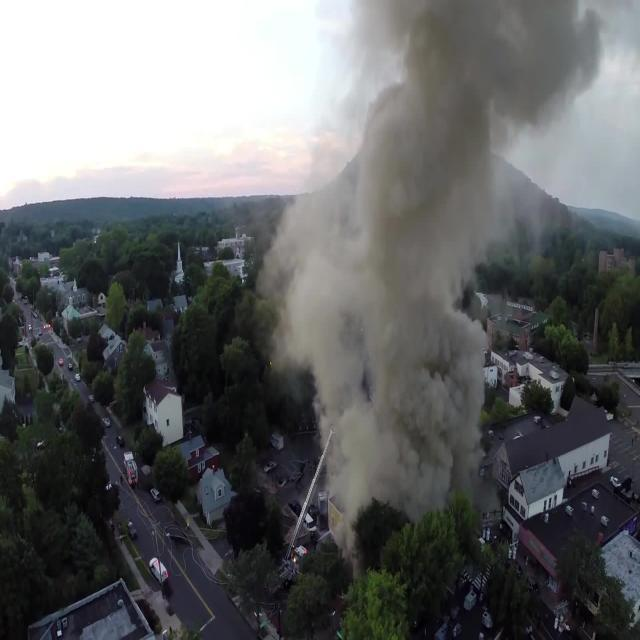Smoke: (303, 0, 589, 575)
